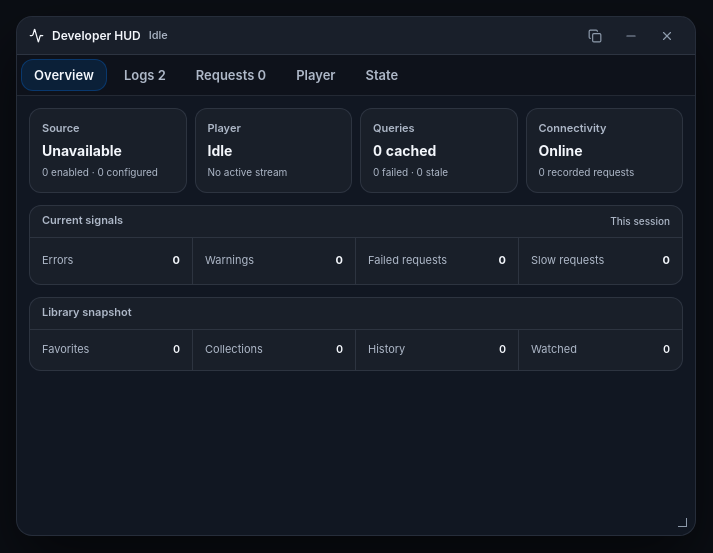
it: Developer HUD › searches structured details and pauses the live log feed
Click the tab "Logs 2": (145, 75) [111,59,179,91]
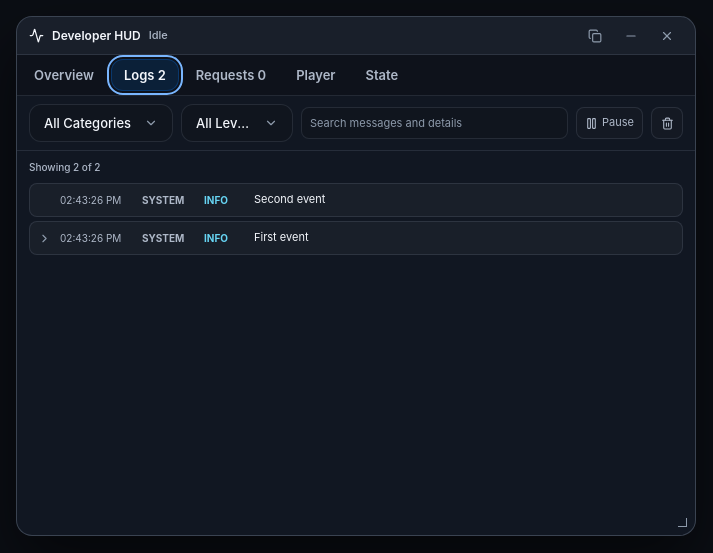
In the search field named "Search diagnostic logs": (435, 123) [301,107,568,139], type "find-me"
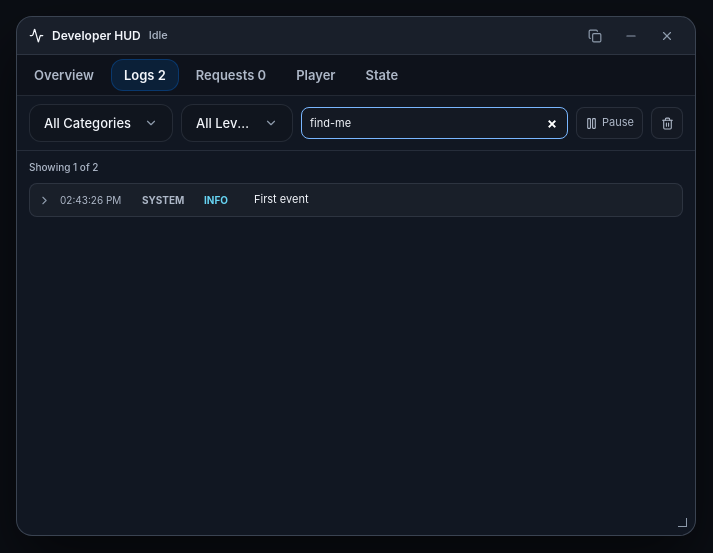
Check: the text "Showing 1 of 2" is shown, box [29,160,98,174]
Clear the search field named "Search diagnostic logs": (435, 123) [301,107,568,139]
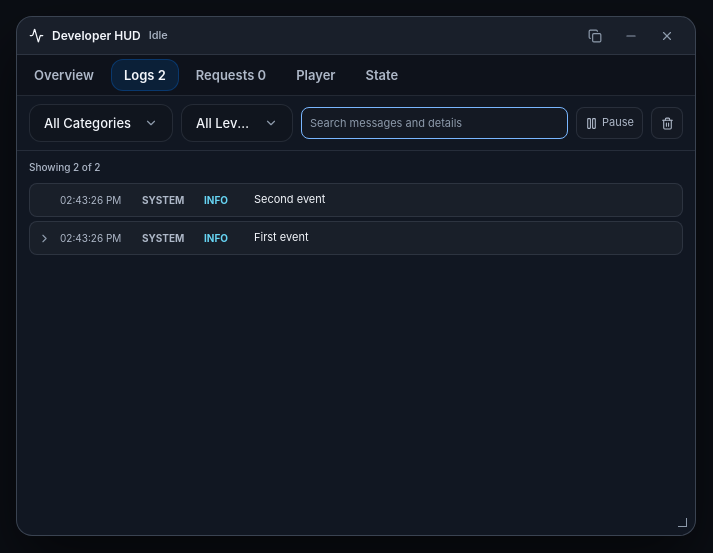
Click the button with aria-label "Pause live logs": (610, 123) [576,107,643,139]
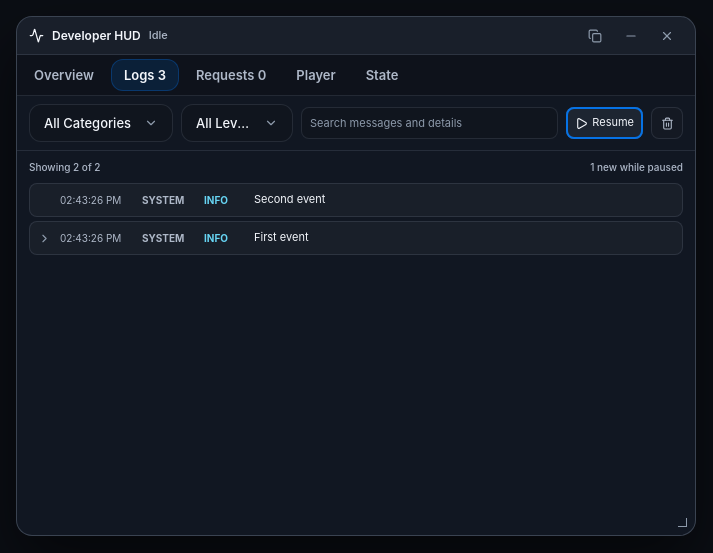
Check: the text "Arrived while paused" is not shown
Check: the text "1 new while paused" is shown, box [590,160,683,174]
Click the button with aria-label "Resume live logs": (605, 123) [566,107,643,139]
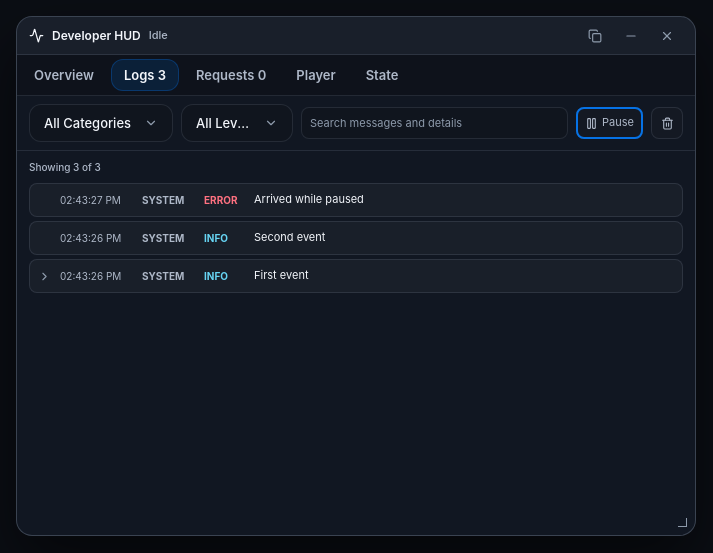
Check: the text "Arrived while paused" is shown, box [254,192,364,206]
